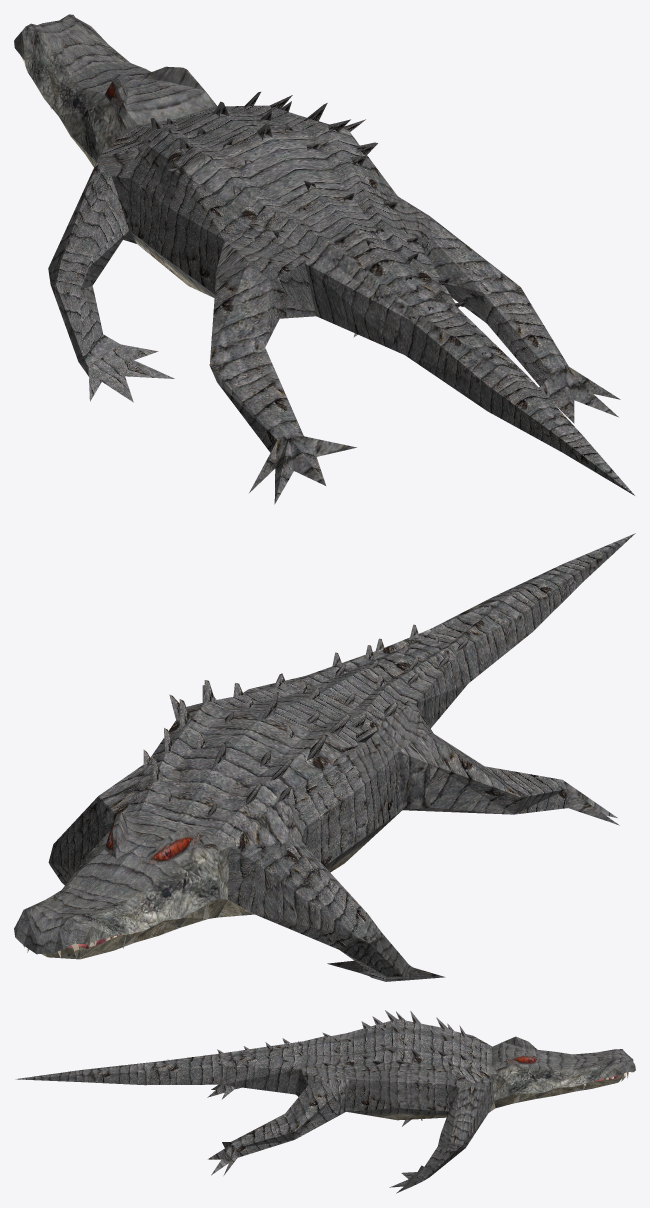
The model's file is OBJ10_ALIGATOR.obj.
3 renders of one model, top to bottom at view 1: azimuth 30°, elevation 25°; view 2: azimuth 150°, elevation 25°; view 3: azimuth 270°, elevation 25°, orthographic. The views are drawn at different scales.
Parts seen in each view (by area): view 1: Object_2, Object_1; view 2: Object_2, Object_1; view 3: Object_2, Object_1.
Boxes of the visible parts, box(x1,y1,x2,y2) form: Object_2: box(14, 14, 634, 504); Object_1: box(144, 92, 486, 354); Object_2: box(14, 533, 635, 981); Object_1: box(143, 605, 491, 817); Object_2: box(15, 1019, 635, 1193); Object_1: box(167, 1010, 479, 1066).
Size of the model in its own units: 228 by 144 by 636.
Materials: 3 (3 with a texture image).
